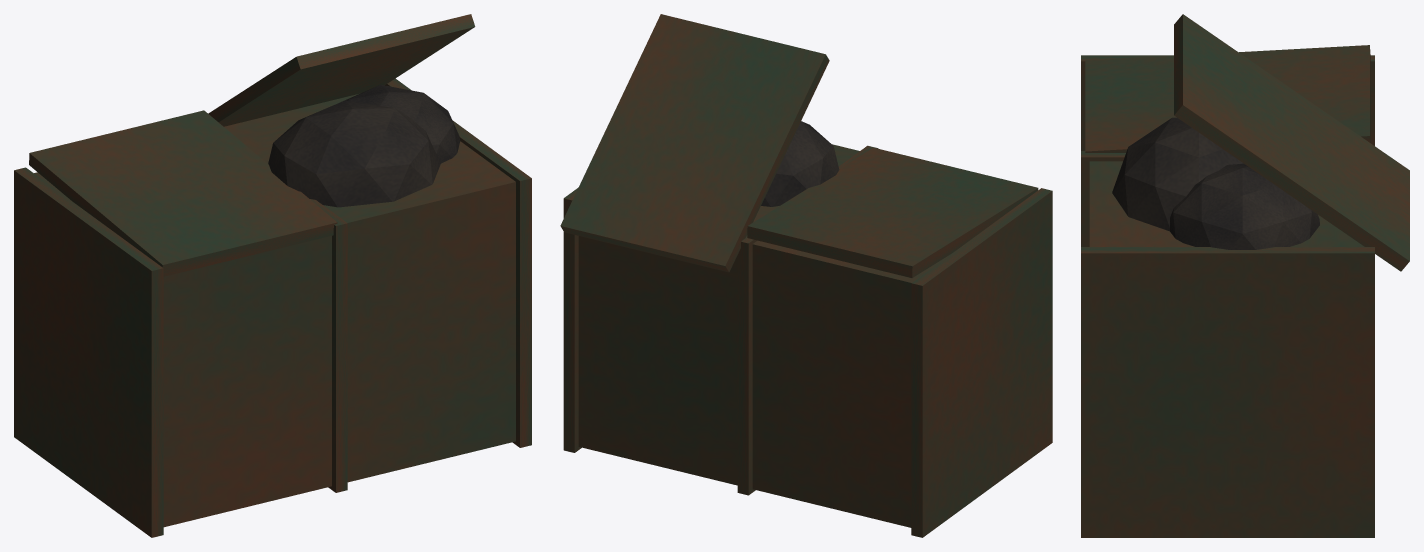
The model's file is dumpster_kraycik_1k.gltf.
3 renders of one model, left to right at view 1: azimuth 30°, elevation 25°; view 2: azimuth 150°, elevation 25°; view 3: azimuth 270°, elevation 25°, orthographic. The views are drawn at different scales.
Visible parts, largest first — view 1: dumpster_kraycik; view 2: dumpster_kraycik; view 3: dumpster_kraycik.
Part boxes in pixels (left/top/right/bottom): dumpster_kraycik: left=14, top=14, right=531, bottom=537; dumpster_kraycik: left=560, top=14, right=1052, bottom=537; dumpster_kraycik: left=1081, top=14, right=1409, bottom=537.
Size of the model in its own units: 1.61 by 1.62 by 1.13.
Materials: 2 (2 with a texture image).
